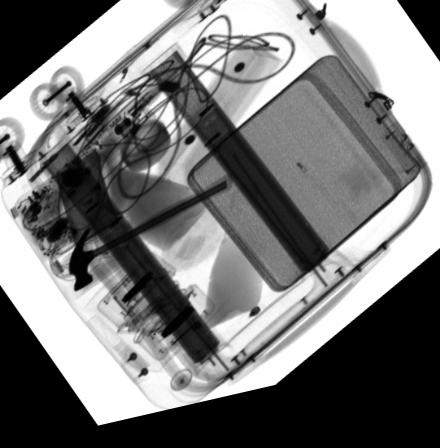Hammer: (68, 184, 234, 296)
